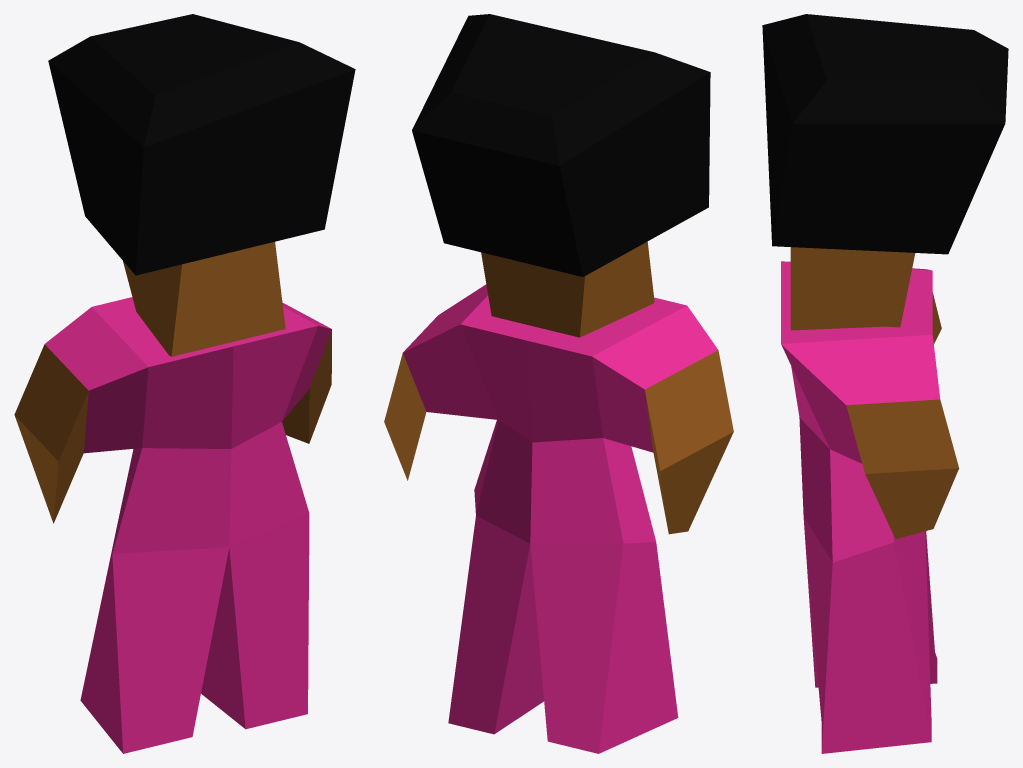
Rendered from Theman.fbx.
The picture shows the model from 3 angles, left to right: view 1: azimuth 30°, elevation 25°; view 2: azimuth 150°, elevation 25°; view 3: azimuth 270°, elevation 25°; orthographic projection.
Parts seen in each view (by area): view 1: Cube.001, Cube.002, Cube, Cube.004, Cube.003; view 2: Cube.001, Cube.002, Cube.004, Cube, Cube.003; view 3: Cube.002, Cube.001, Cube.003, Cube.
Part boxes in pixels (x1,y1,x2,y2): Cube.001: (45, 297, 331, 753); Cube.002: (48, 14, 355, 275); Cube: (123, 241, 285, 356); Cube.004: (14, 344, 88, 523); Cube.003: (282, 330, 331, 443); Cube.001: (403, 284, 717, 753); Cube.002: (412, 14, 710, 276); Cube.004: (645, 350, 733, 534); Cube: (481, 241, 654, 337); Cube.003: (384, 353, 426, 480); Cube.002: (762, 14, 1008, 254); Cube.001: (781, 261, 940, 753); Cube.003: (846, 399, 959, 539); Cube: (790, 247, 915, 330).
Bounding box in the file's own units: 366 × 800 × 266.
